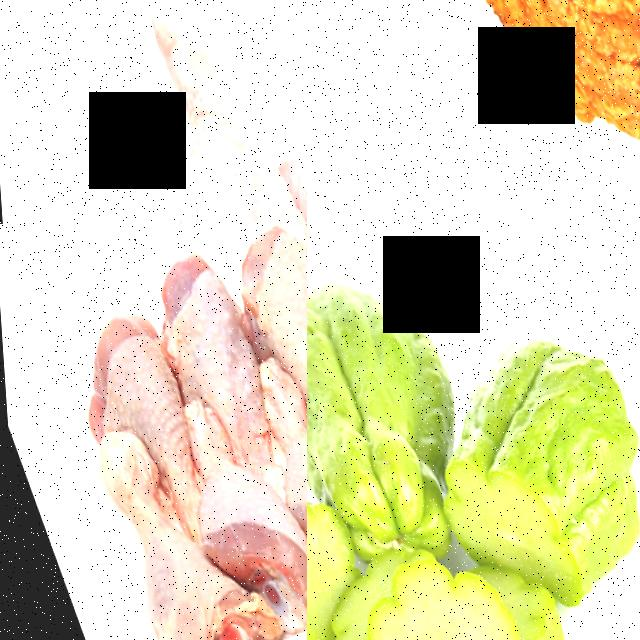chayote: (417, 288, 640, 567), (307, 237, 454, 524)
chicken thigh: (307, 0, 640, 224), (63, 0, 307, 224), (77, 417, 254, 640), (137, 235, 287, 479), (162, 397, 307, 640), (76, 292, 219, 529), (224, 224, 307, 467), (237, 349, 307, 607)
